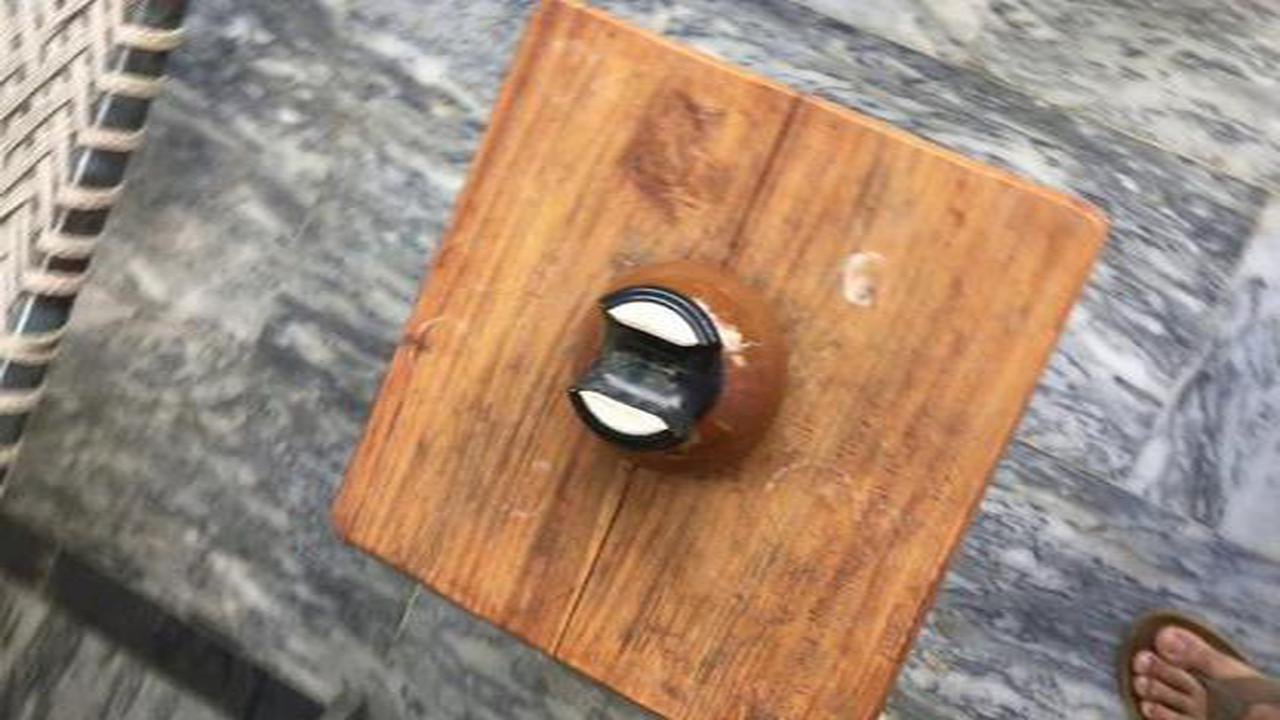insulator_pin: (539, 254, 807, 506)
